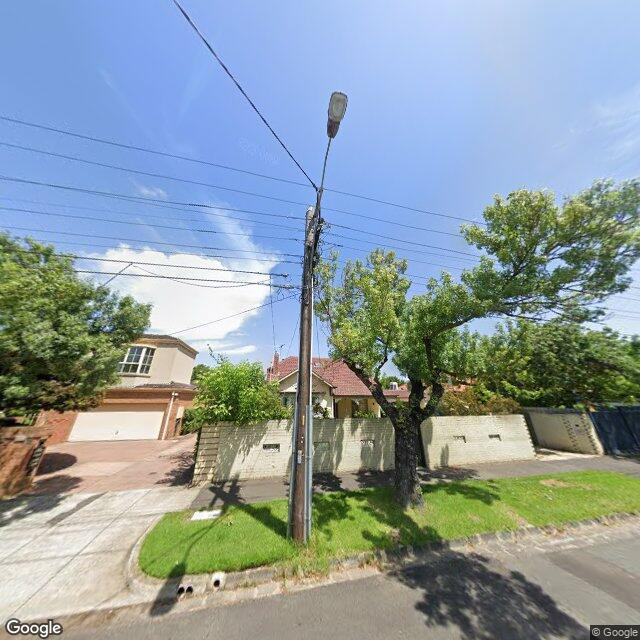crossarm: (314, 218, 325, 254)
streetlight: (307, 91, 348, 281)
timber-pole: (288, 207, 318, 542)
